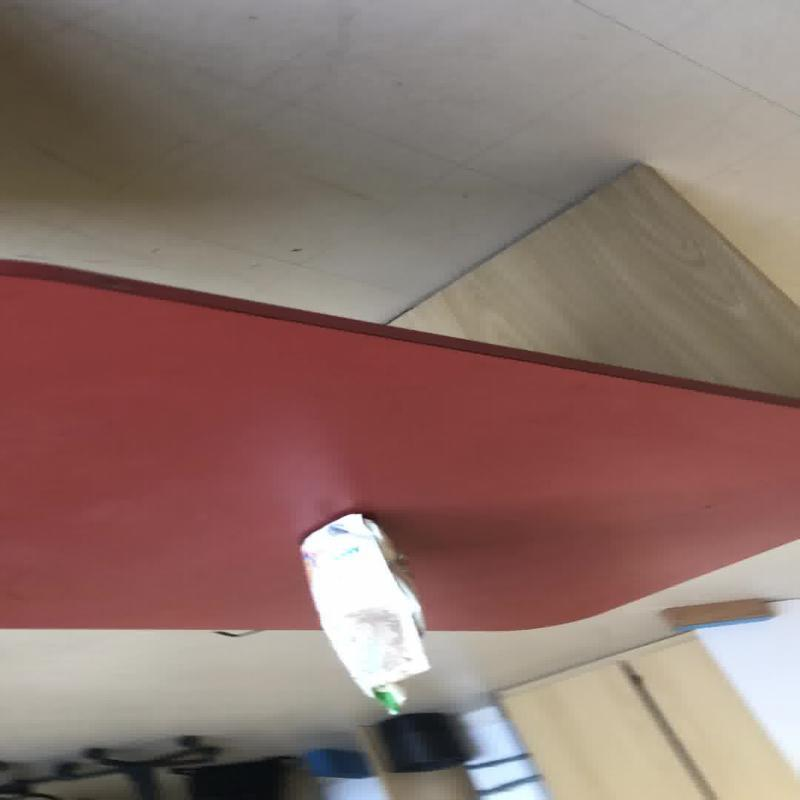corn flakes: (296, 512, 430, 714)
